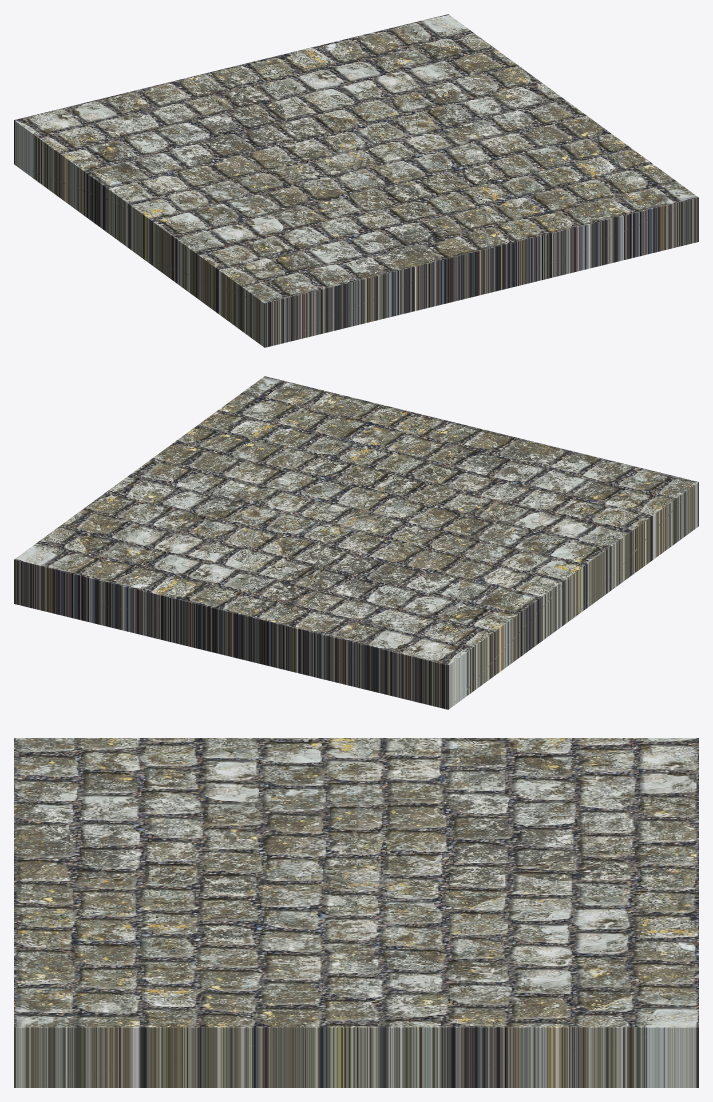
File: StoneFloor.glb
3 views of the same model, one above another, from view 1: azimuth 30°, elevation 25°; view 2: azimuth 150°, elevation 25°; view 3: azimuth 270°, elevation 25° (orthographic). The views are drawn at different scales.
Parts seen in each view (by area): view 1: Plane; view 2: Plane; view 3: Plane.
Boxes of the visible parts, x1,y1,x2,y2 form: Plane: (14,14,698,347); Plane: (14,376,698,709); Plane: (14,738,698,1087).
Size of the model in its own units: 2 by 0.1947 by 2.
1 material, 1 textured.
